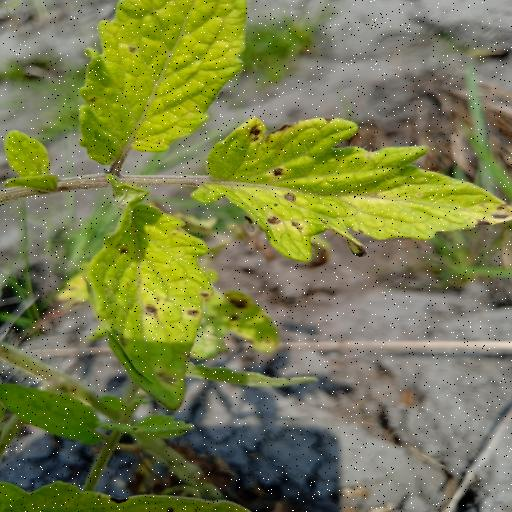Tomato_Brown_Spots: (187, 112, 512, 262), (89, 195, 219, 410)
